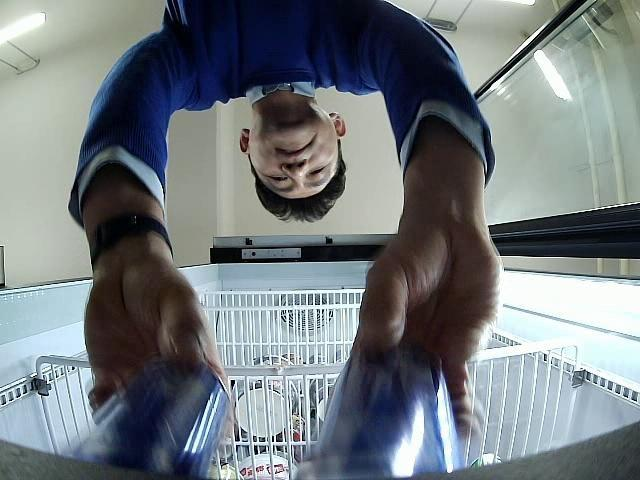16_hot6: (305, 348, 462, 480), (70, 358, 229, 478)
